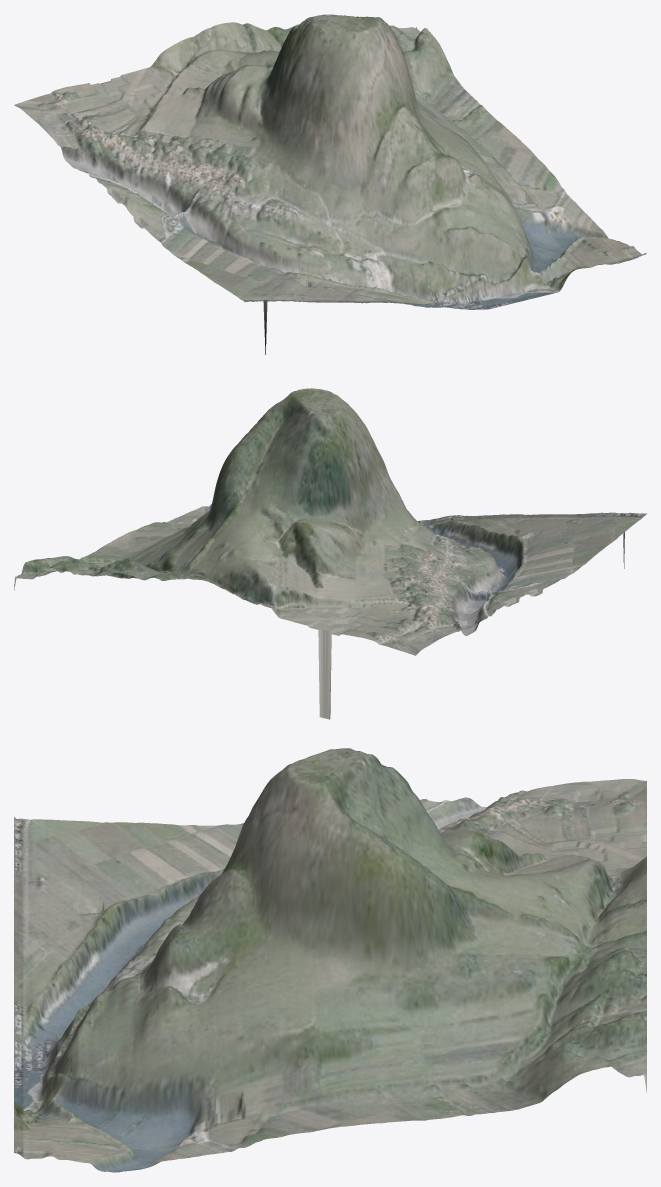
Rendered from dsm_45c4b45297_mesh.glb.
3 views of the same model, one above another, from view 1: azimuth 30°, elevation 25°; view 2: azimuth 150°, elevation 25°; view 3: azimuth 270°, elevation 25° (orthographic). The views are drawn at different scales.
Parts seen in each view (by area): view 1: geometry_0; view 2: geometry_0; view 3: geometry_0.
Boxes of the visible parts, bbox=[...] form: geometry_0: bbox=[14, 14, 646, 354]; geometry_0: bbox=[14, 388, 646, 719]; geometry_0: bbox=[14, 748, 646, 1172].
Bounding box in the file's own units: 2 × 1 × 2.
